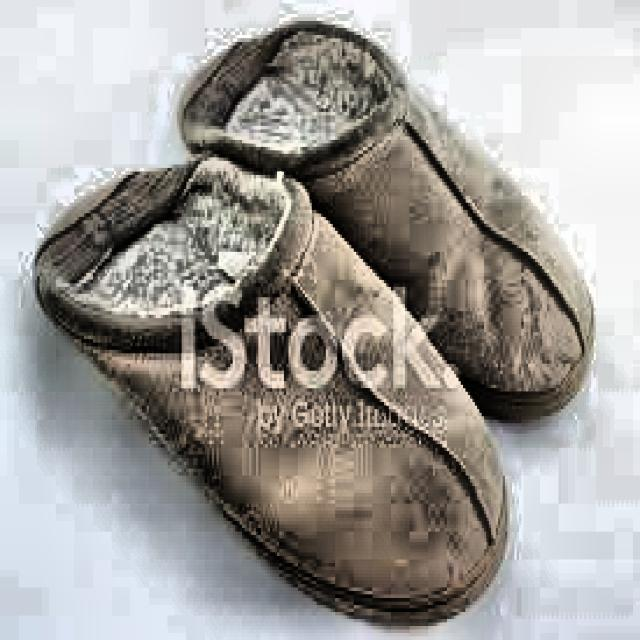shoes: (14, 0, 614, 618)
